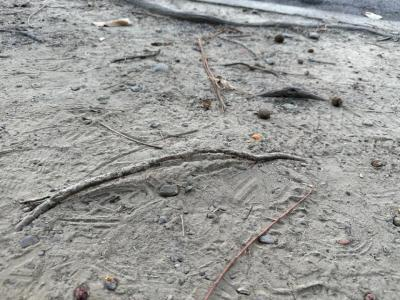Root: (15, 148, 307, 231), (123, 0, 323, 112), (205, 184, 316, 300), (98, 122, 162, 149), (332, 24, 390, 36)
